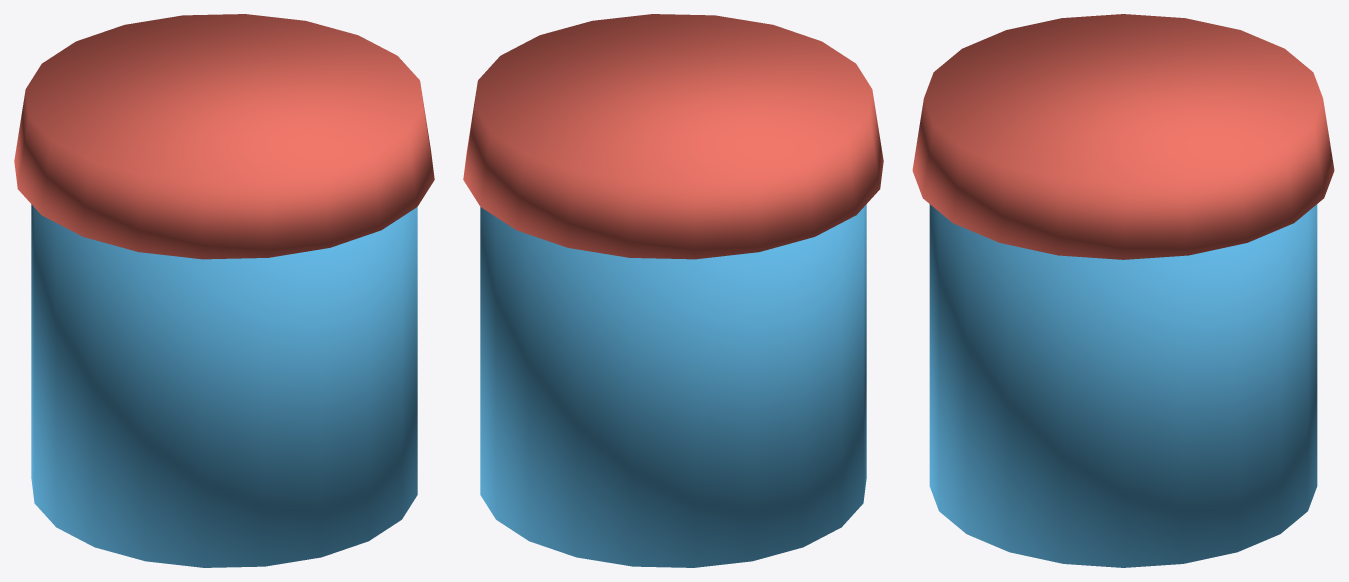
File: prop_bumper_peg_blue.glb
The picture shows the model from 3 angles, left to right: view 1: azimuth 30°, elevation 25°; view 2: azimuth 150°, elevation 25°; view 3: azimuth 270°, elevation 25°; orthographic projection.
Parts seen in each view (by area): view 1: Mesh_Bumper_Peg.001; view 2: Mesh_Bumper_Peg.001; view 3: Mesh_Bumper_Peg.001.
Boxes of the visible parts, x1=… form: Mesh_Bumper_Peg.001: x1=14, y1=14, x2=434, y2=567; Mesh_Bumper_Peg.001: x1=463, y1=14, x2=883, y2=567; Mesh_Bumper_Peg.001: x1=912, y1=14, x2=1334, y2=567.
Size of what is drawn, in the model's own units: 0.74 by 0.75 by 0.74.
